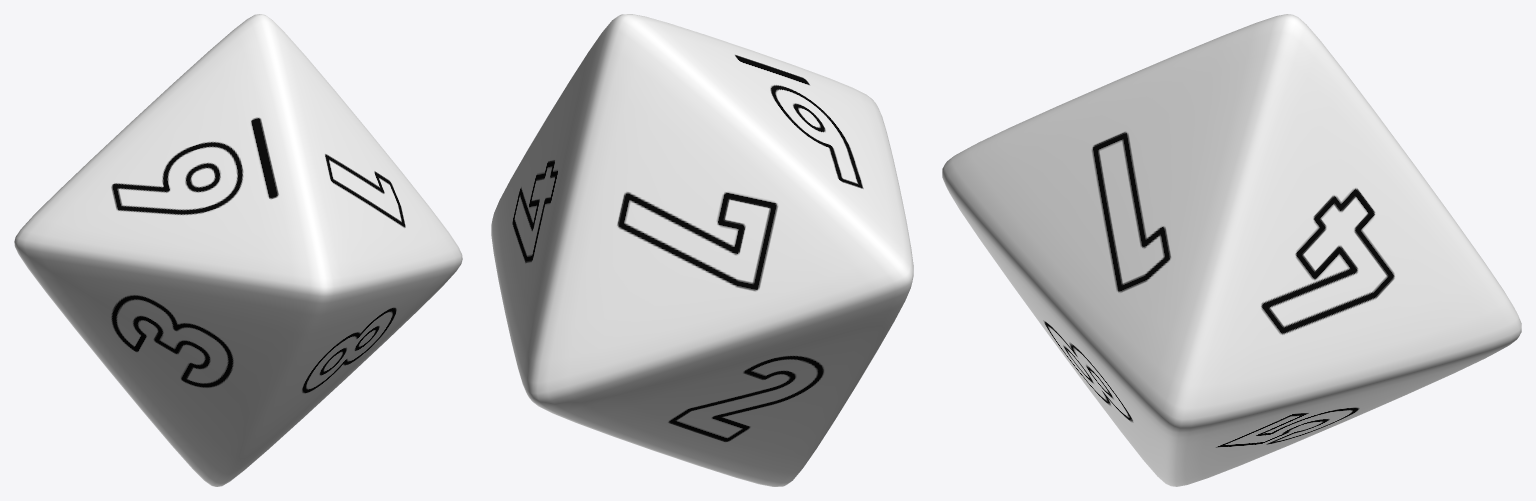
The model's file is dice8.fbx.
3 views of the same model, side by side, from view 1: azimuth 30°, elevation 25°; view 2: azimuth 150°, elevation 25°; view 3: azimuth 270°, elevation 25° (orthographic). The views are drawn at different scales.
Visible parts, largest first — view 1: Solid.003; view 2: Solid.003; view 3: Solid.003.
Boxes of the visible parts, x1,y1,x2,y2 form: Solid.003: [14, 14, 462, 486]; Solid.003: [491, 14, 913, 486]; Solid.003: [942, 14, 1521, 486].
Size of the model in its own units: 176 by 174 by 175.
